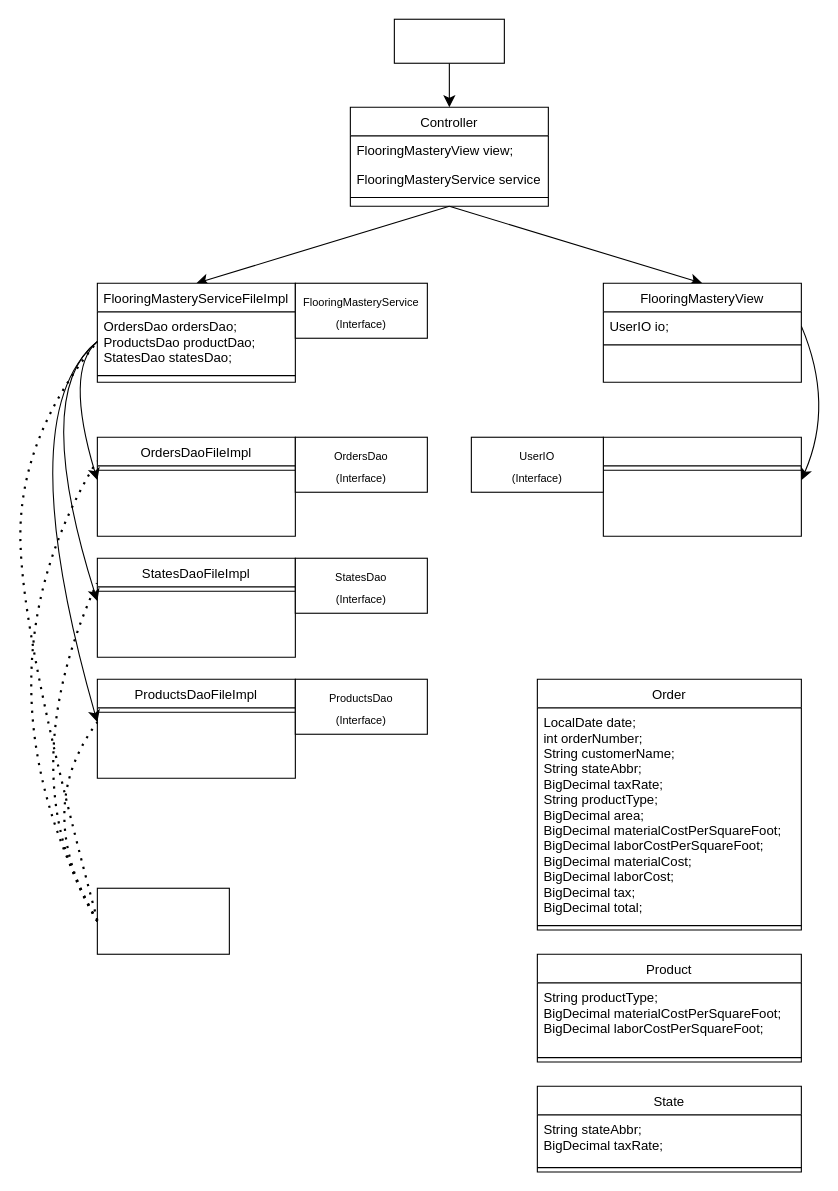
Image size: 838x1191. Some labels were removed from this diagram. Each missing label, with the centre of its shape:
App: point 448,40
Classes likely to have test versions: point 162,920
UserIOConsoleImpl: point 701,486
